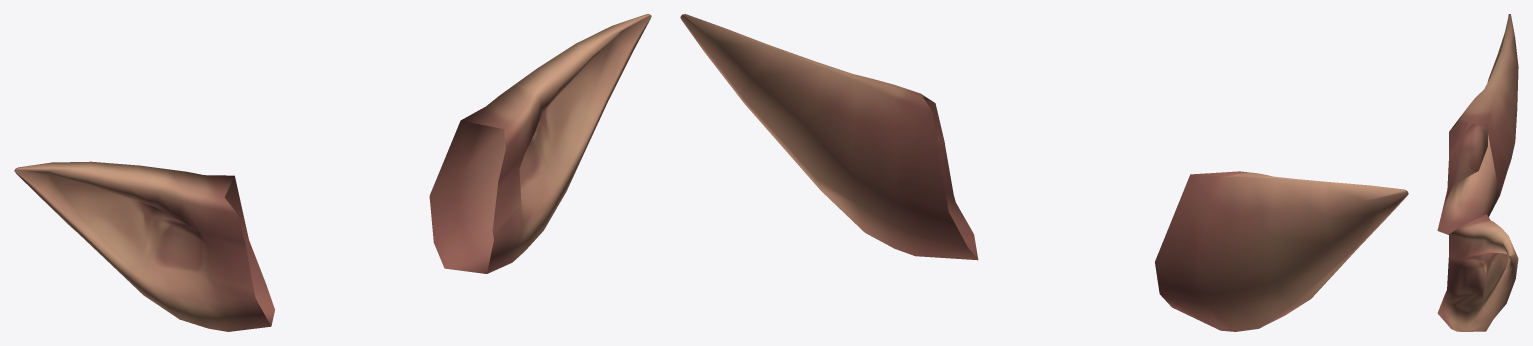
The model's file is Drakelf_ears.fbx.
3 renders of one model, left to right at view 1: azimuth 30°, elevation 25°; view 2: azimuth 150°, elevation 25°; view 3: azimuth 270°, elevation 25°, orthographic. The views are drawn at different scales.
Visible parts, largest first — view 1: Drakelf_ears; view 2: Drakelf_ears; view 3: Drakelf_ears.
Boxes of the visible parts, x1=… form: Drakelf_ears: x1=14, y1=14, x2=651, y2=331; Drakelf_ears: x1=680, y1=14, x2=1408, y2=331; Drakelf_ears: x1=1437, y1=14, x2=1518, y2=331.
Size of the model in its own units: 2.25 by 0.6149 by 0.3163.
